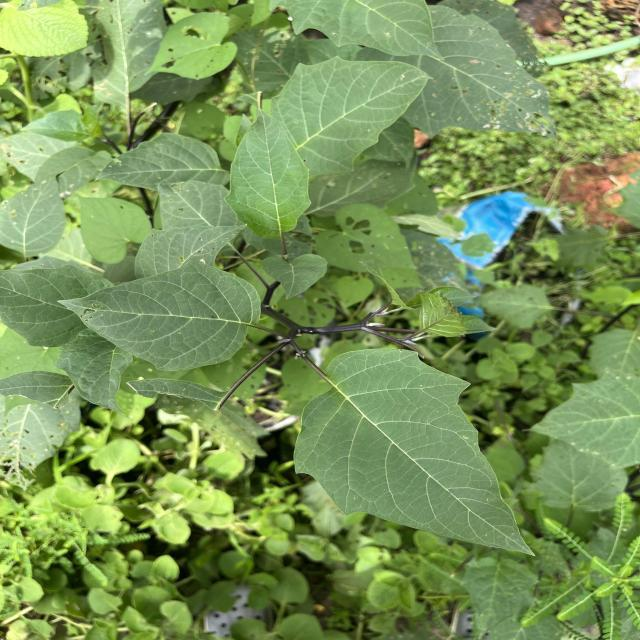Datura metal linn: (292, 346, 540, 558), (55, 258, 265, 374), (220, 105, 314, 241)
